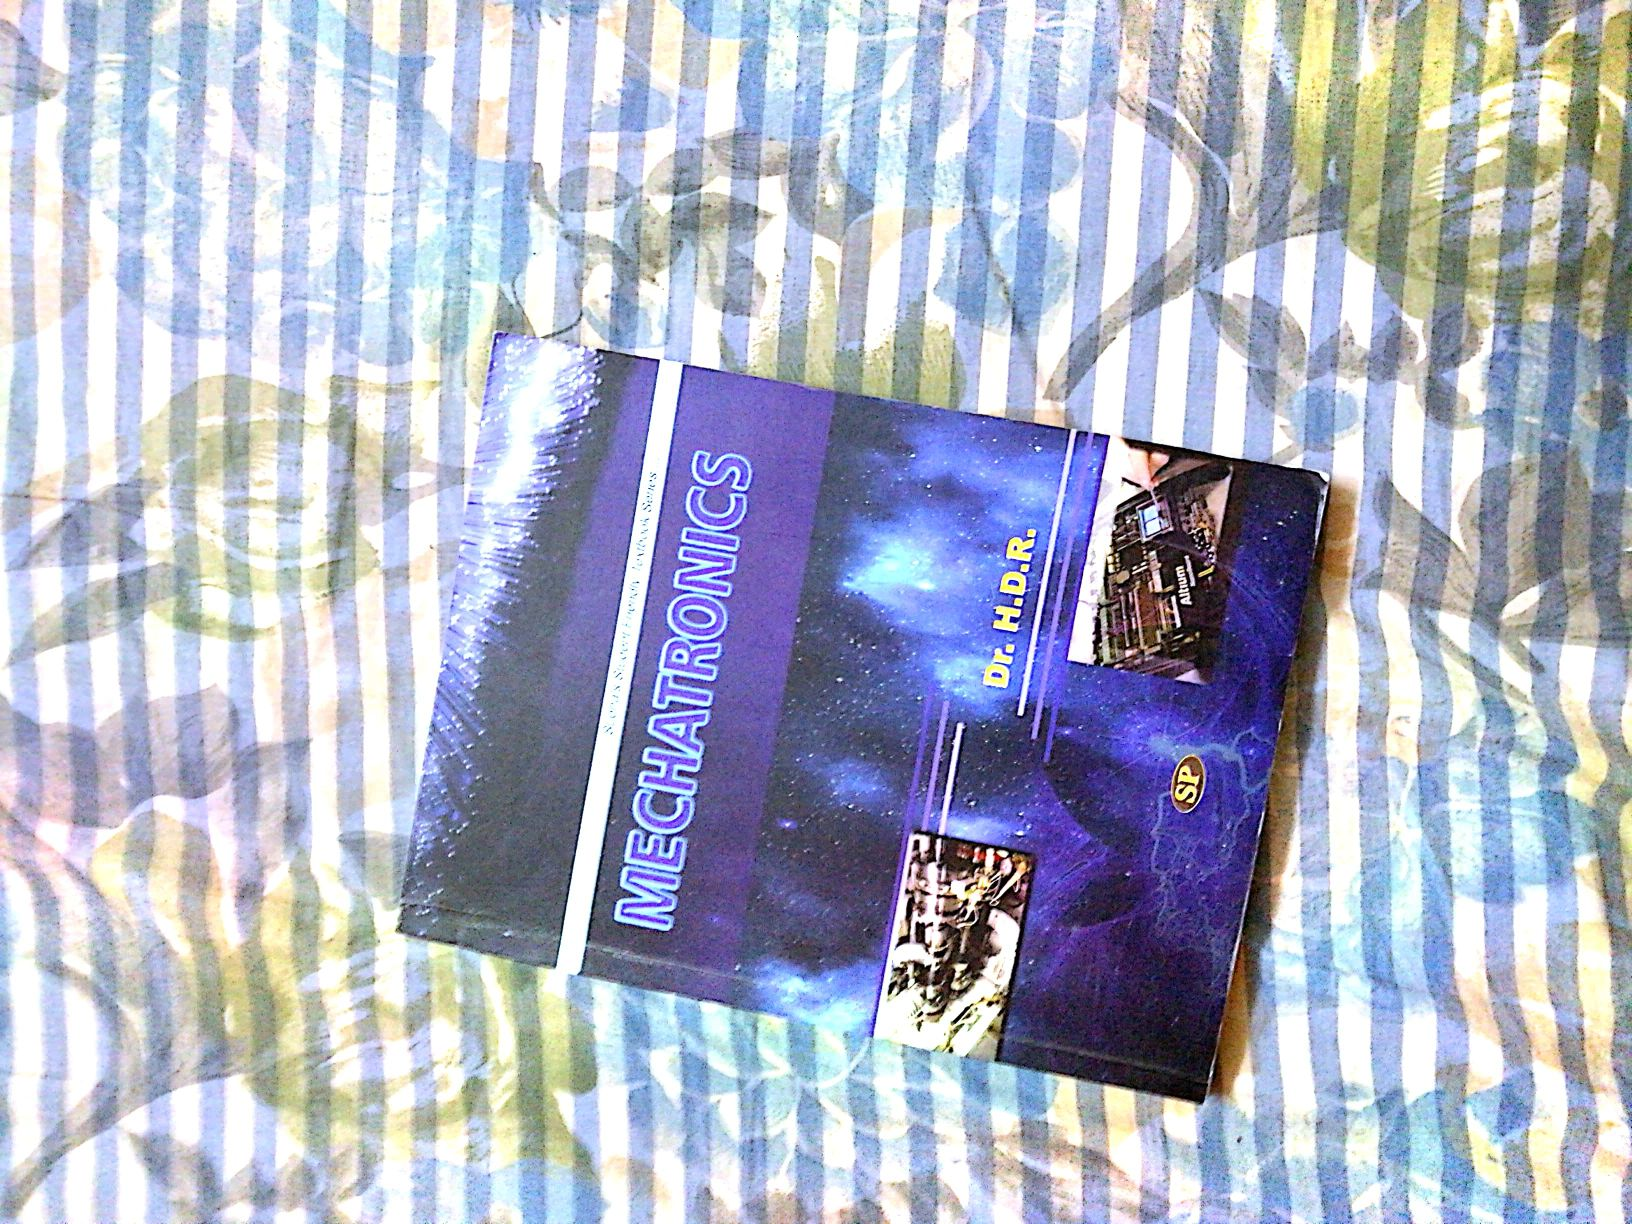mechatronics: (373, 339, 1351, 1110)
